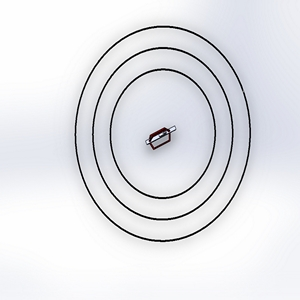circle: (68, 20, 257, 246)
submarine: (142, 118, 181, 157)
